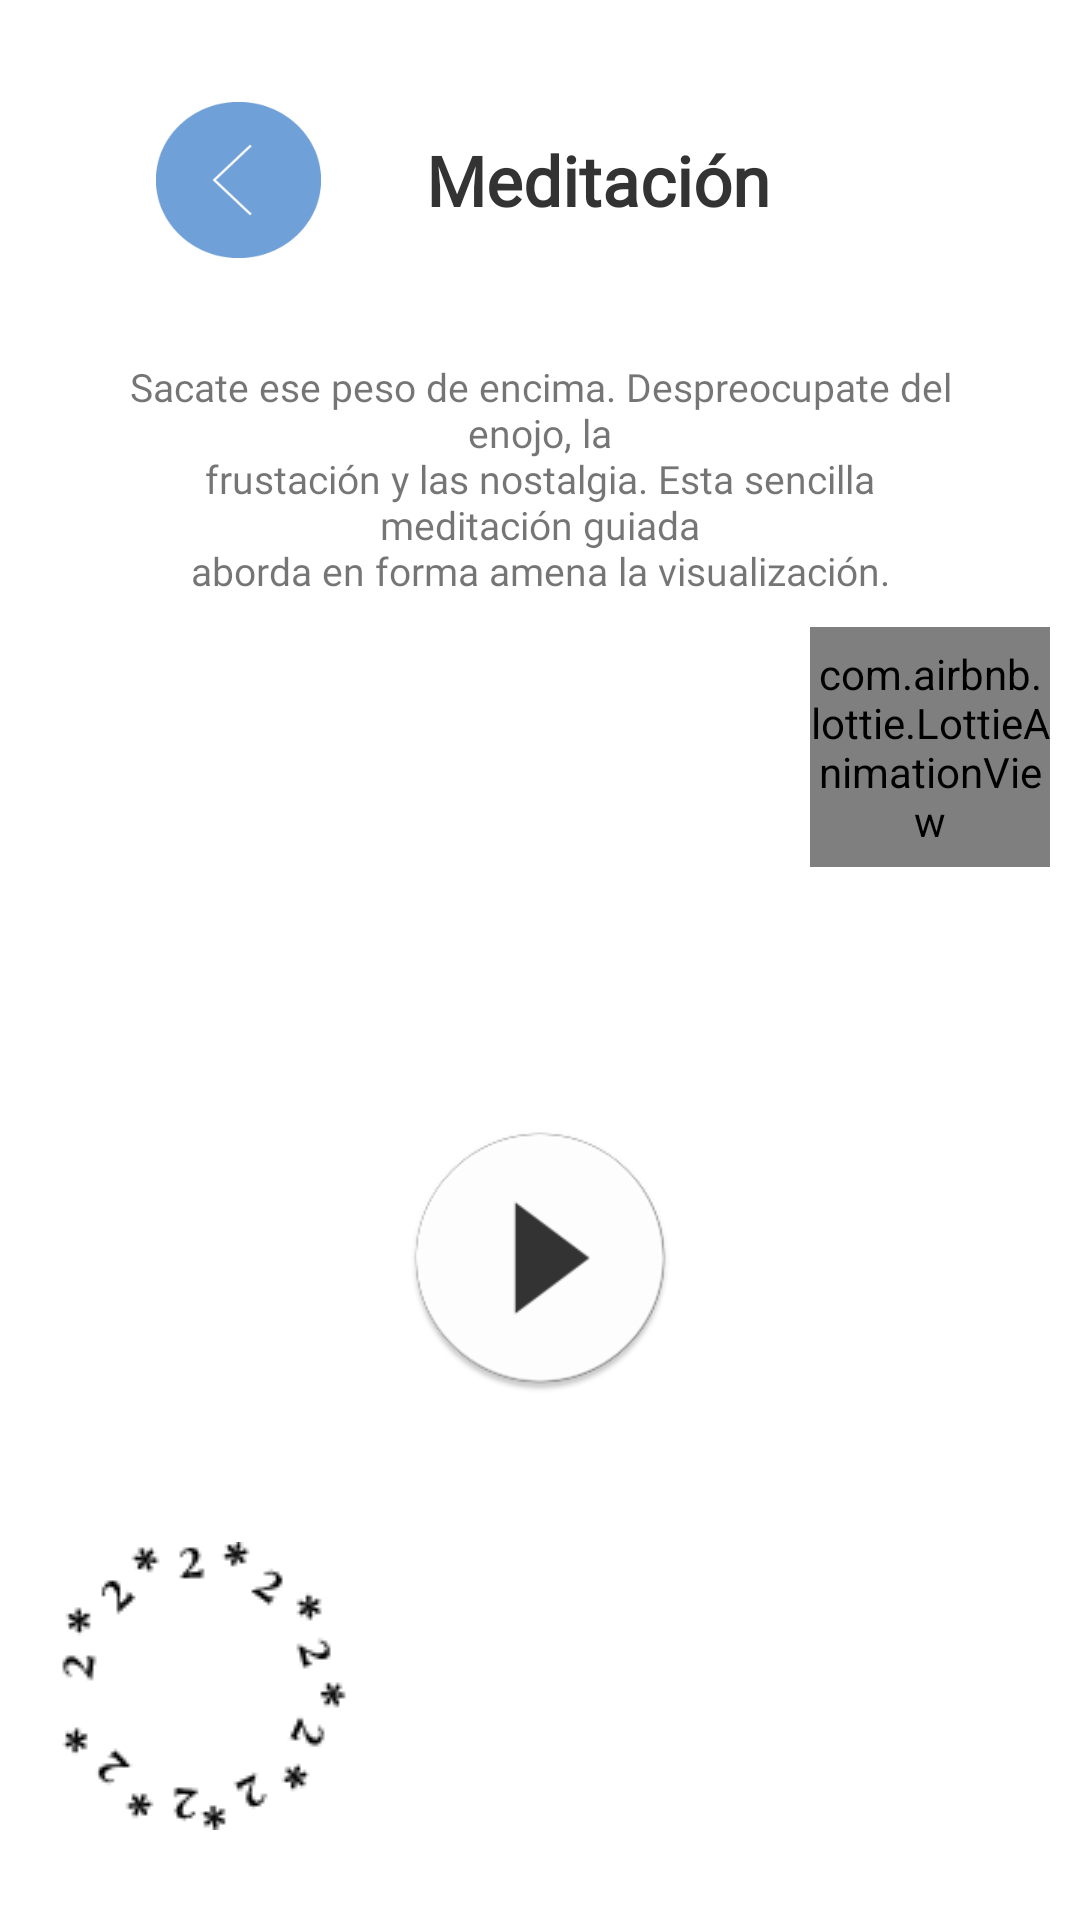

Icon bounding boxes for this 1080px×1920px phone screenshot, format (x1, y1, x2, y2):
play video: (414, 1133, 666, 1388)
regresar xxxdpi: (156, 102, 321, 258)
